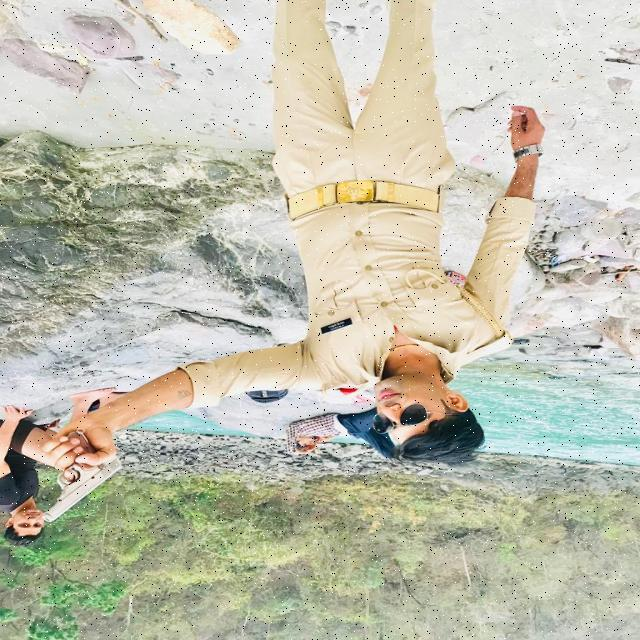gun: (30, 421, 135, 528)
